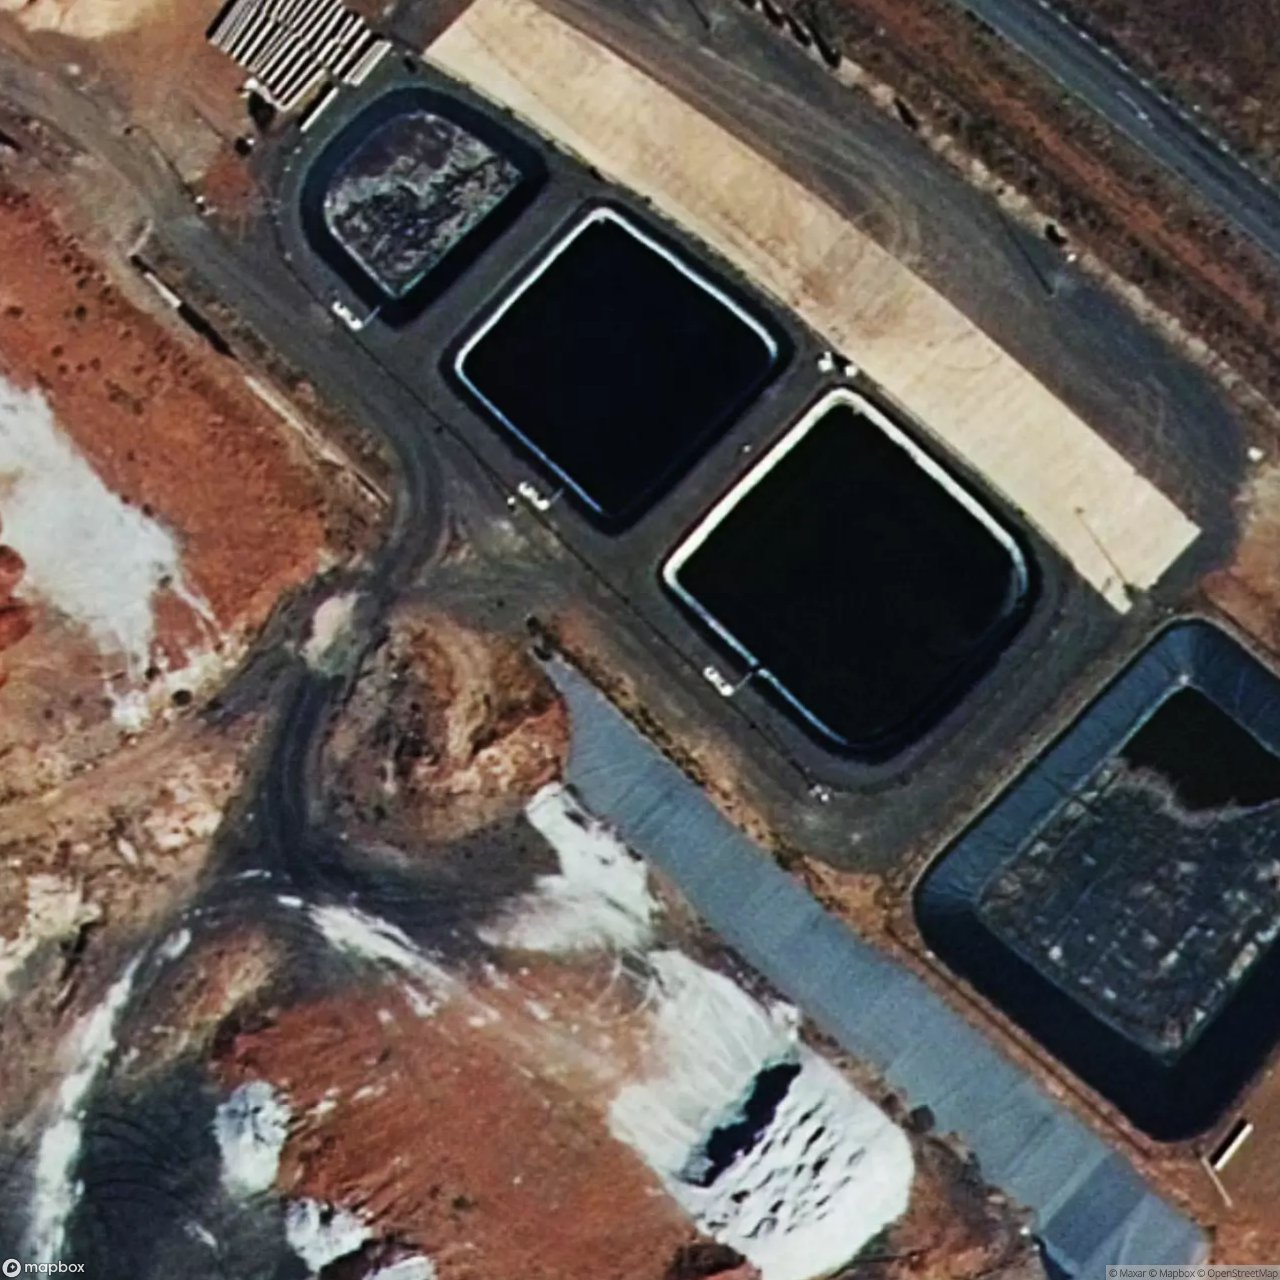dump_site: (318, 109, 518, 291)
